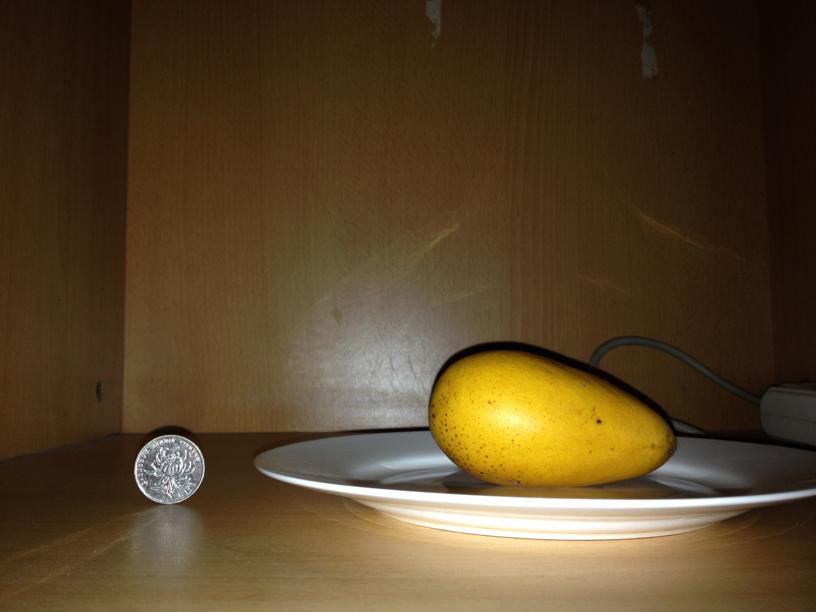coin: (132, 433, 203, 506)
mango: (428, 352, 675, 485)
